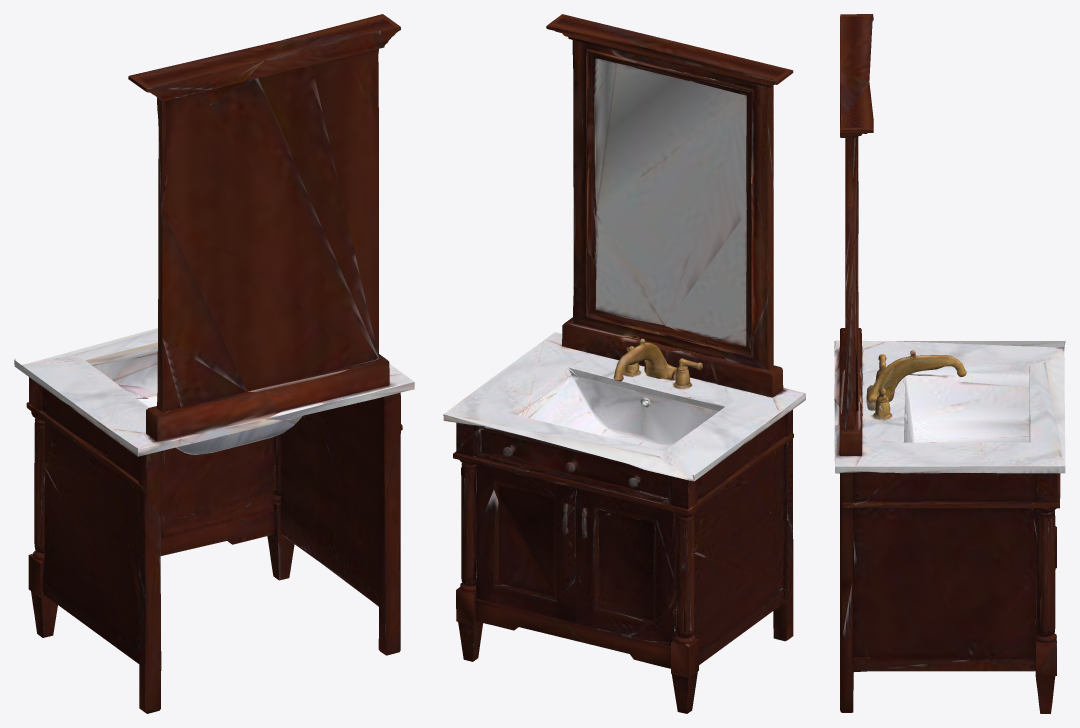
Rendered from mj-washstand-marble.lod1.glb.
3 renders of one model, left to right at view 1: azimuth 30°, elevation 25°; view 2: azimuth 150°, elevation 25°; view 3: azimuth 270°, elevation 25°, orthographic. The views are drawn at different scales.
Visible parts, largest first — view 1: mj-washstand-marble; view 2: mj-washstand-marble; view 3: mj-washstand-marble.
Boxes of the visible parts, bbox=[...] form: mj-washstand-marble: bbox=[14, 14, 414, 713]; mj-washstand-marble: bbox=[443, 14, 805, 713]; mj-washstand-marble: bbox=[834, 14, 1065, 713].
Bounding box in the file's own units: 0.8536 × 1.85 × 0.6605.
1 material, 1 textured.
